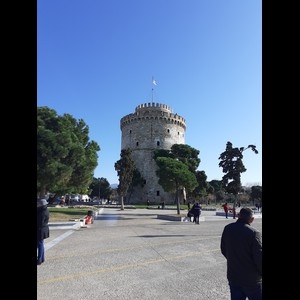White Tower: (117, 74, 188, 210)
